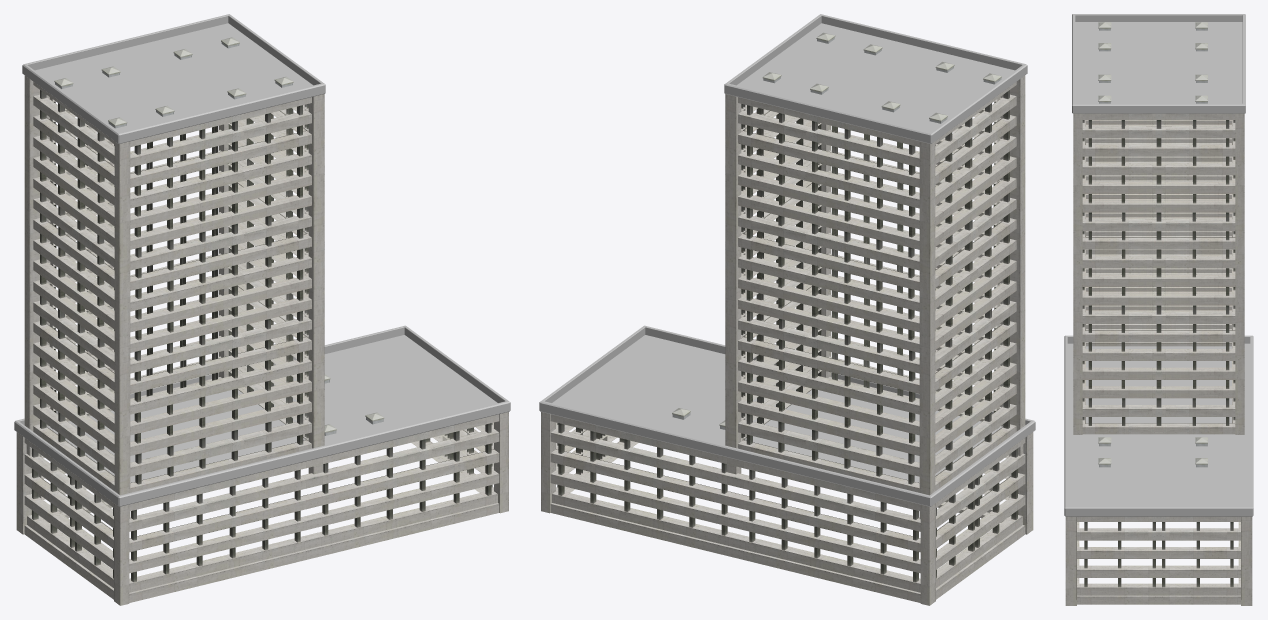
The model's file is u2SEBuild7.gltf.
The picture shows the model from 3 angles, left to right: view 1: azimuth 30°, elevation 25°; view 2: azimuth 150°, elevation 25°; view 3: azimuth 270°, elevation 25°; orthographic projection. The views are drawn at different scales.
Visible parts, largest first — view 1: u2SEBuild7; view 2: u2SEBuild7; view 3: u2SEBuild7.
Part boxes in pixels (<box>): u2SEBuild7: <box>14,14,510,605</box>; u2SEBuild7: <box>539,14,1035,605</box>; u2SEBuild7: <box>1064,14,1253,605</box>.
Size of the model in its own units: 23.35 by 26.65 by 10.83.
